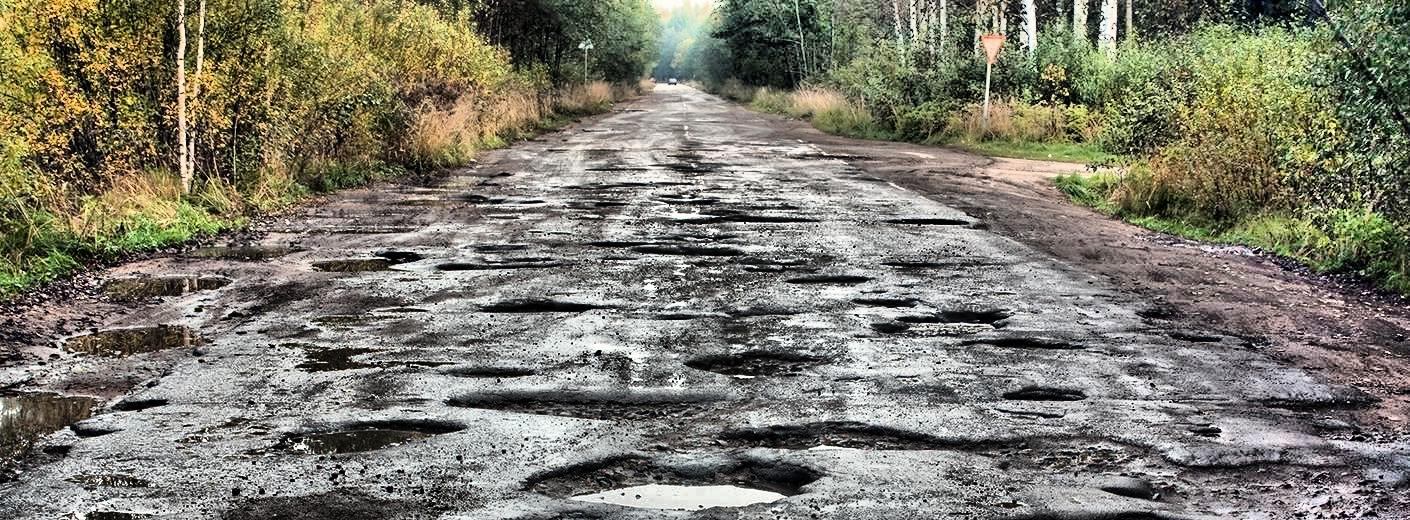pothole: (526, 446, 829, 517), (12, 374, 136, 465), (451, 386, 734, 423), (291, 412, 459, 465), (61, 321, 200, 361), (289, 336, 396, 383), (688, 342, 812, 381), (100, 272, 233, 305), (899, 305, 1013, 330), (486, 292, 580, 321), (305, 254, 394, 278), (998, 383, 1077, 406), (786, 272, 866, 289)
